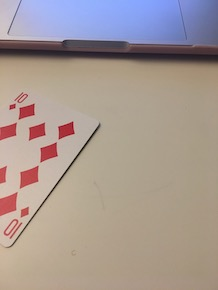TenOfDiamonds: (1, 82, 101, 250)
